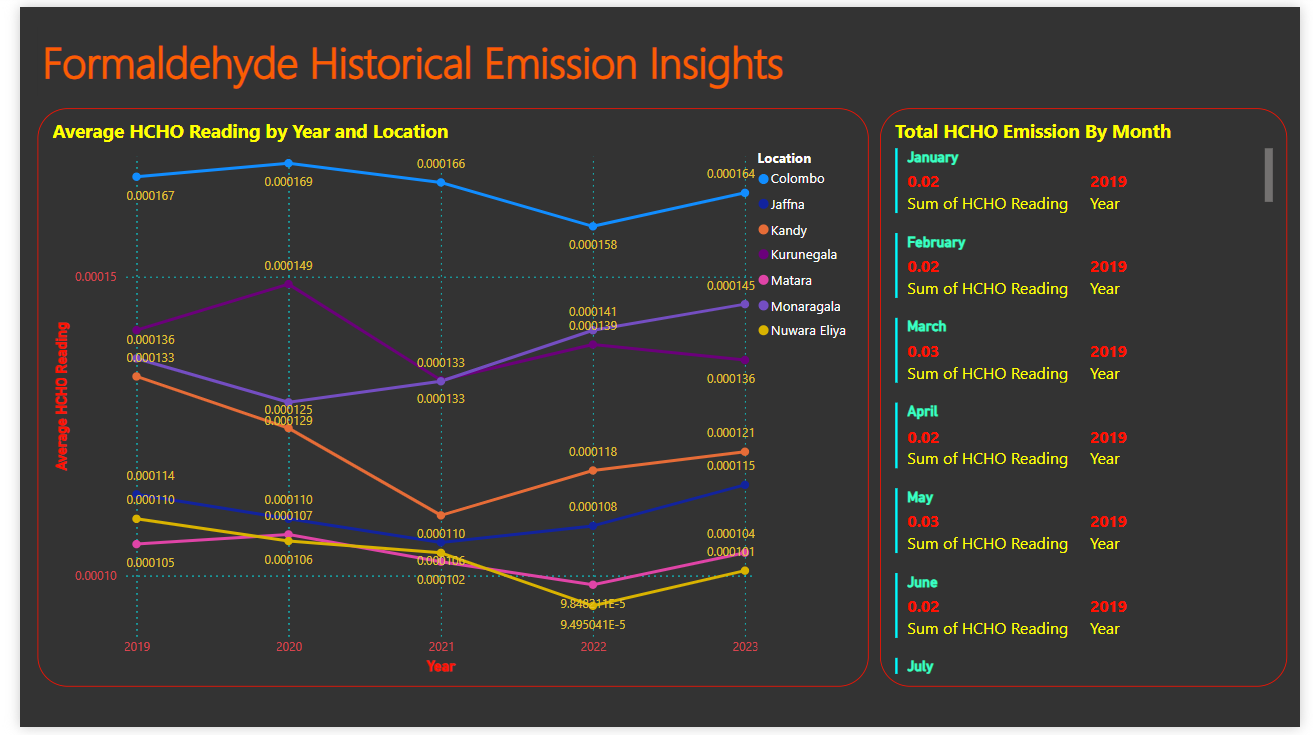

Layout of this report page (visuals, bound fields, positions):
{"tool":"powerbi","page":{"name":"Census Emission Insights","canvas":[1280,720],"ordinal":1},"visuals":[{"type":"lineChart","fields":{"Y":["Avg(merged_df.HCHO Reading)"],"Category":["merged_df.Current_Date.Variation.Date Hierarchy.Year"],"Series":["merged_df.Location"]},"box":[17.5,101.2,831.2,578.8],"z":0},{"type":"textbox","box":[17.5,20,768.8,68.8],"z":1000},{"type":"multiRowCard","title":"Total HCHO Emission By Month","fields":{"Values":["Sum(merged_df.HCHO Reading)","merged_df.Current_Date.Variation.Date Hierarchy.Year","merged_df.Current_Date.Variation.Date Hierarchy.Month"]},"box":[860,101.2,407.5,578.8],"z":2000}]}

Visuals, with their boxes in screenshot pixels (x1, y1, x2, y2), scaled from the page's 1280x720 canvas onto the 1313x735 screenshot:
lineChart - Avg(merged_df.HCHO Reading) x merged_df.Current_Date.Variation.Date Hierarchy.Year: <bbox>18, 103, 871, 694</bbox>
textbox: <bbox>18, 20, 807, 91</bbox>
"Total HCHO Emission By Month" multiRowCard: <bbox>882, 103, 1300, 694</bbox>
